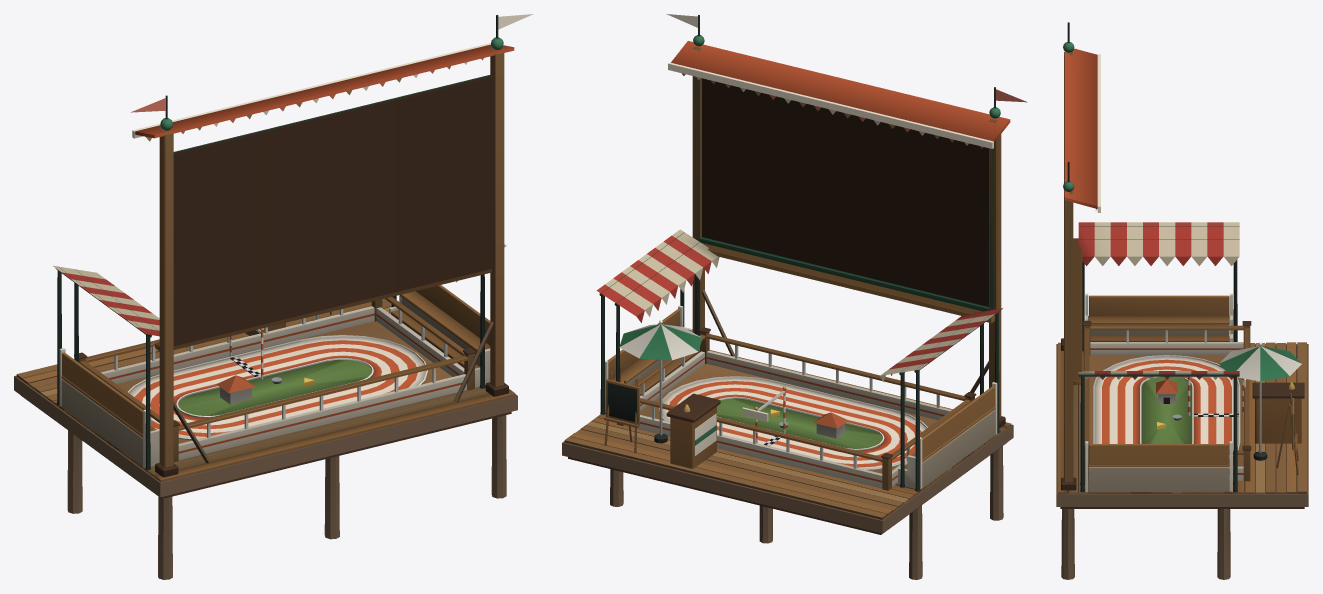
File: pav_rats.glb
3 renders of one model, left to right at view 1: azimuth 30°, elevation 25°; view 2: azimuth 150°, elevation 25°; view 3: azimuth 270°, elevation 25°, orthographic. The views are drawn at different scales.
Visible parts, largest first — view 1: static_rats; view 2: static_rats; view 3: static_rats.
Boxes of the visible parts, x1,y1,x2,y2 form: static_rats: (14,15,517,579); static_rats: (562,15,1013,579); static_rats: (1056,22,1308,579).
Bounding box in the file's own units: 7.74 × 8.8 × 4.86.
